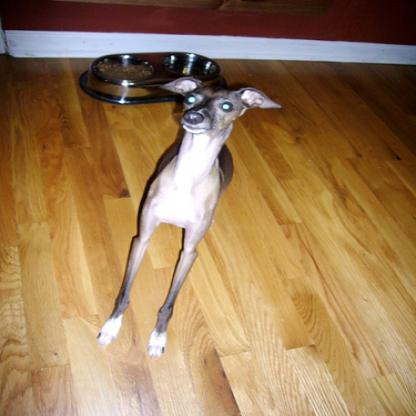dog: (91, 75, 282, 356)
